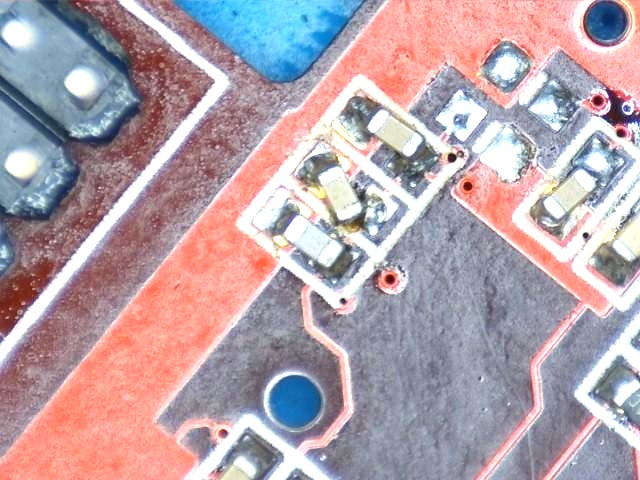pcb_defect: (332, 89, 439, 188), (292, 141, 397, 235), (531, 137, 626, 239)
